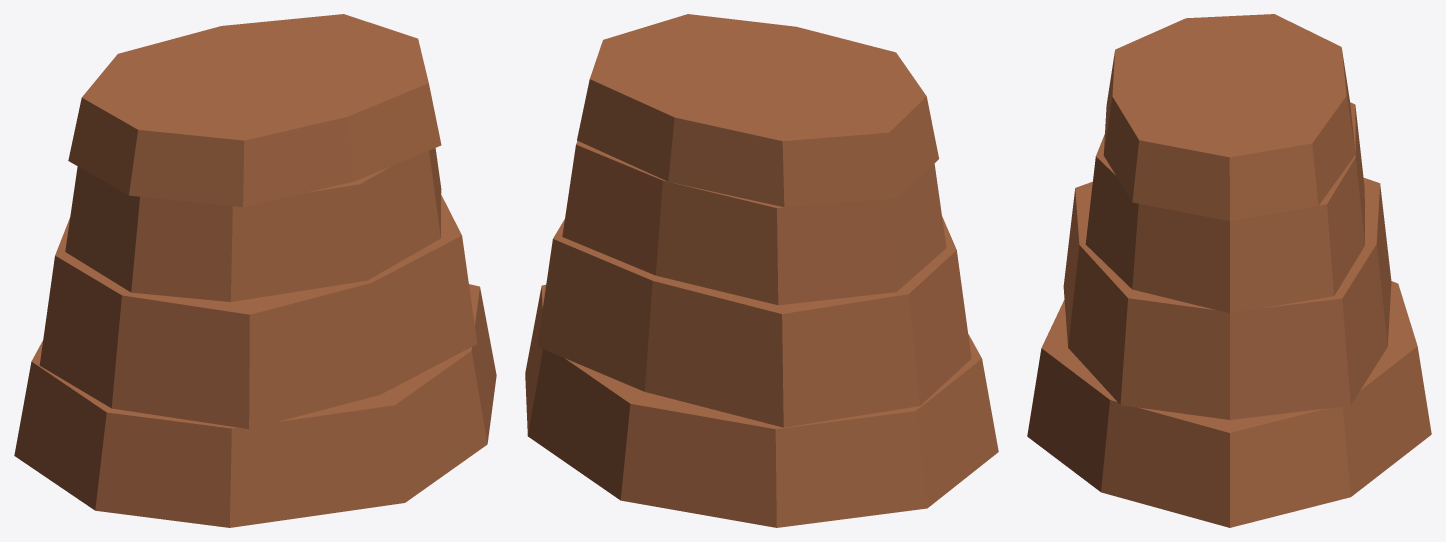
Rendered from SM_Rock_Mesa.obj.
The picture shows the model from 3 angles, left to right: view 1: azimuth 30°, elevation 25°; view 2: azimuth 150°, elevation 25°; view 3: azimuth 270°, elevation 25°; orthographic projection. The views are drawn at different scales.
Visible parts, largest first — view 1: SM_Rock_Mesa; view 2: SM_Rock_Mesa; view 3: SM_Rock_Mesa.
Part boxes in pixels (<box>): SM_Rock_Mesa: <box>14,14,496,527</box>; SM_Rock_Mesa: <box>525,14,998,527</box>; SM_Rock_Mesa: <box>1027,14,1431,527</box>.
Size of the model in its own units: 6.01 by 4.6 by 5.04.
